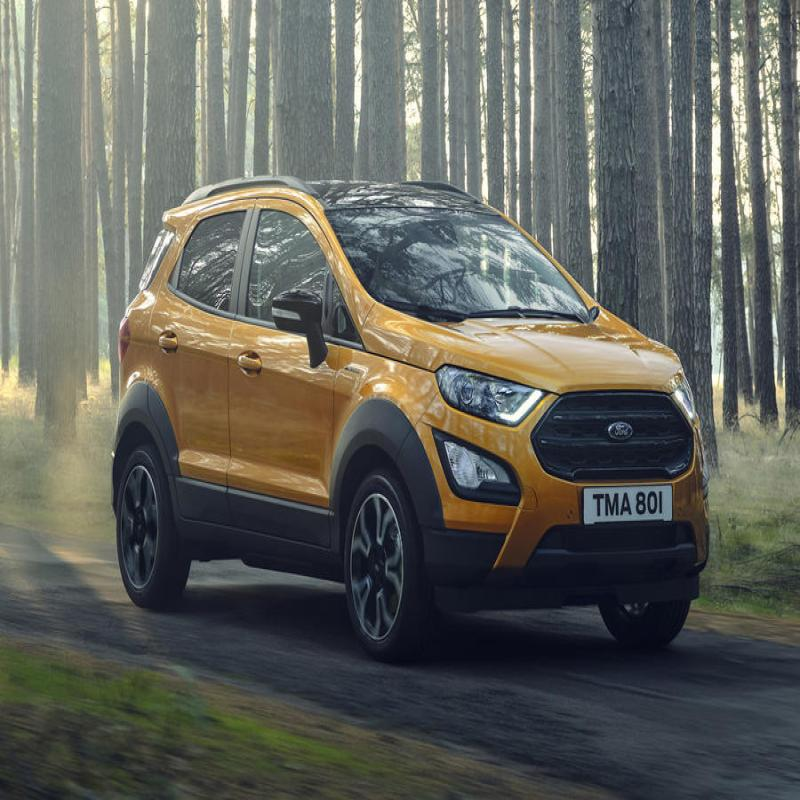car: (100, 139, 713, 668)
